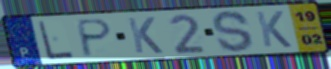2: (166, 12, 208, 56)
K: (125, 16, 166, 55), (254, 10, 294, 49)
L: (36, 19, 77, 61)
P: (76, 18, 115, 59)
S: (210, 9, 256, 54)
